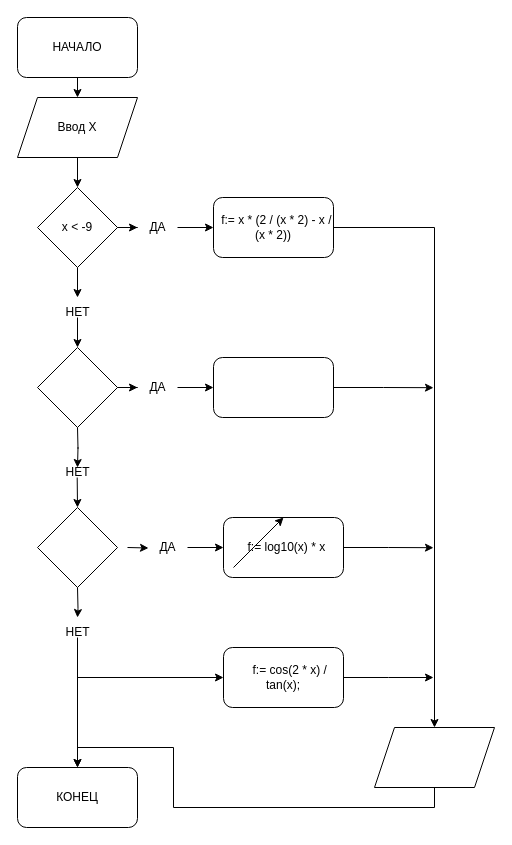
Some shapes in this 512 by 845 pixel diagram are drawn without their labels. Each missing label, with the centre of its shape:
f:= power(x, 4) * (1 / 3) - x: the point at 273,387
x < 2: the point at 77,547
x<1: the point at 77,387
Вывод F: the point at 434,757
